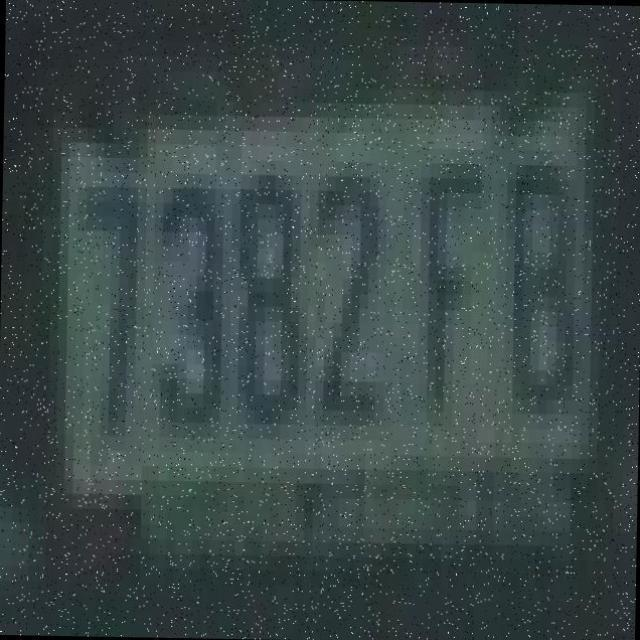License Plate: (59, 112, 622, 518)
